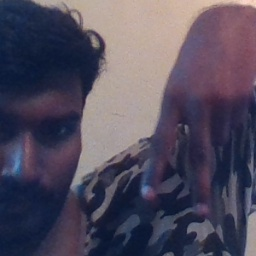Y: (132, 61, 230, 227)
